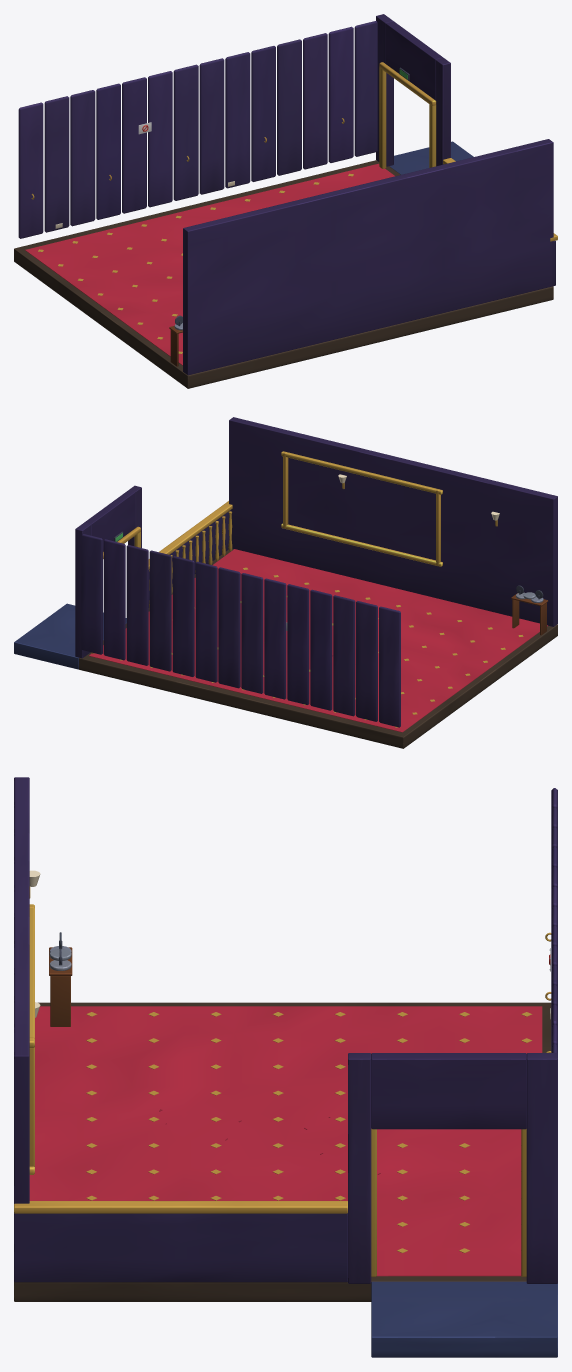
File: SM_Projection_Room.fbx
3 views of the same model, one above another, from view 1: azimuth 30°, elevation 25°; view 2: azimuth 150°, elevation 25°; view 3: azimuth 270°, elevation 25° (orthographic). The views are drawn at different scales.
Visible parts, largest first — view 1: SM_Projection_Room; view 2: SM_Projection_Room; view 3: SM_Projection_Room.
Boxes of the visible parts, box(x1,y1,x2,y2) form: SM_Projection_Room: box(14, 14, 557, 388); SM_Projection_Room: box(14, 417, 557, 748); SM_Projection_Room: box(14, 777, 557, 1357).
Bounding box in the file's own units: 1020 × 350 × 700.
